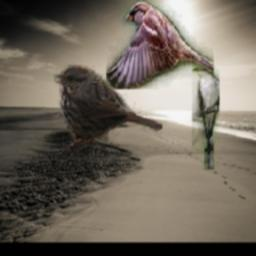Cuckoo: (192, 64, 219, 170)
Sparrow: (55, 63, 163, 153), (106, 0, 214, 89)
